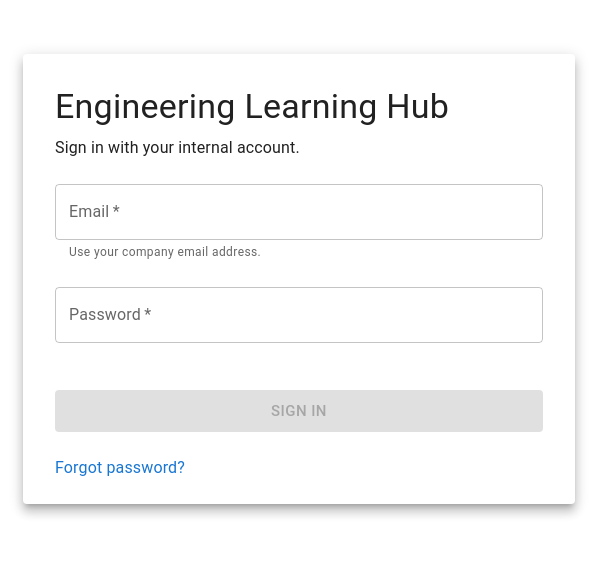
Test: LoginPage › shows backend error for invalid credentials
Type "employee@example.com" into the field labelled "Email *" at [299, 212], box [55,184,543,240]
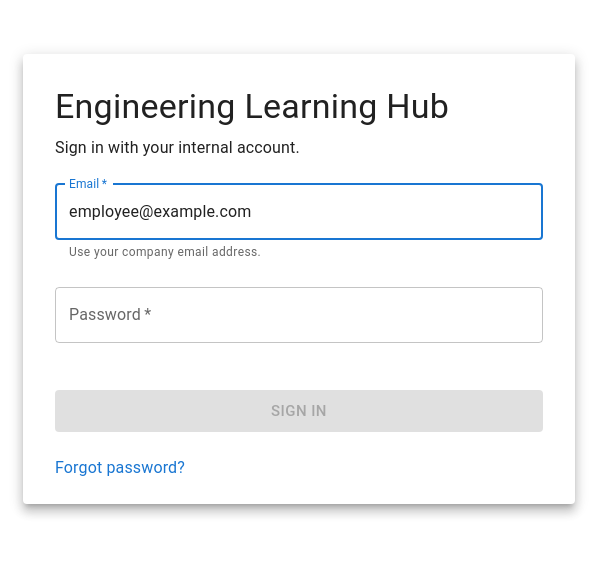
Type "Password123" into the password field labelled "Password *" at [299, 315], box [55,287,543,343]
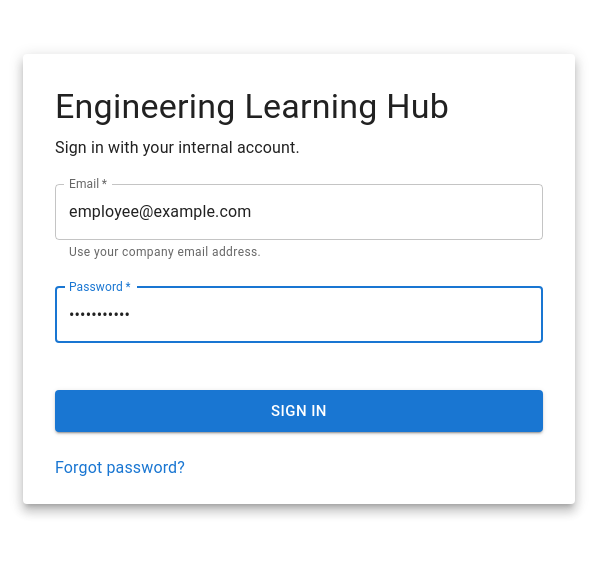
Click the button "Sign in" at [299, 411], box [55,390,543,432]
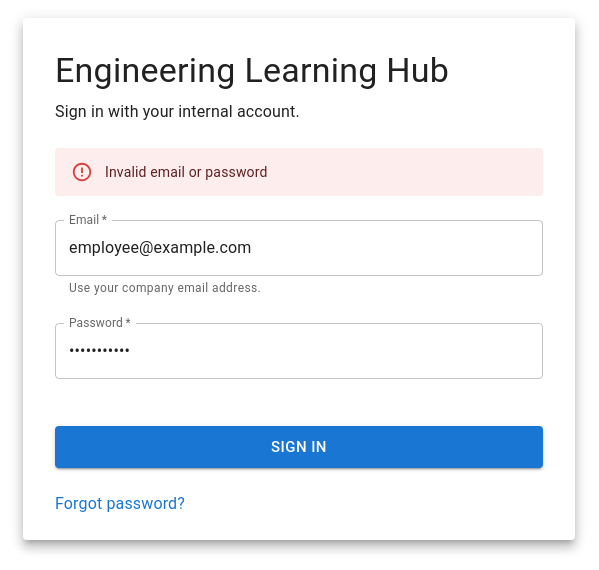
Check: the text "Invalid email or password" is shown, box [105,164,268,180]
